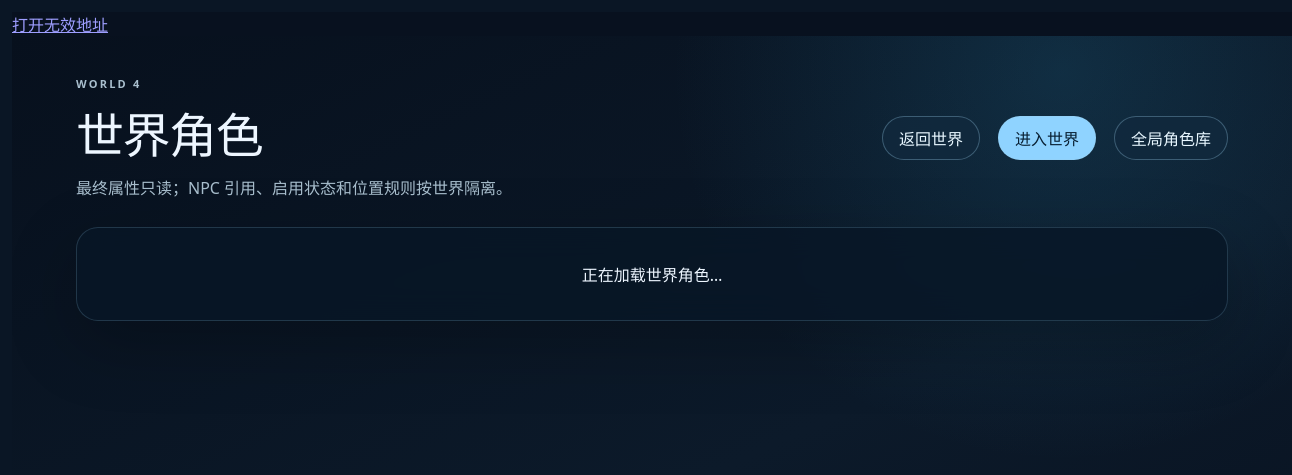
Test: WorldRolesPage › keeps an invalid-route error when an old world load resolves
Step 1. Click the link "打开无效地址" → [60, 25], box [12,14,108,36]
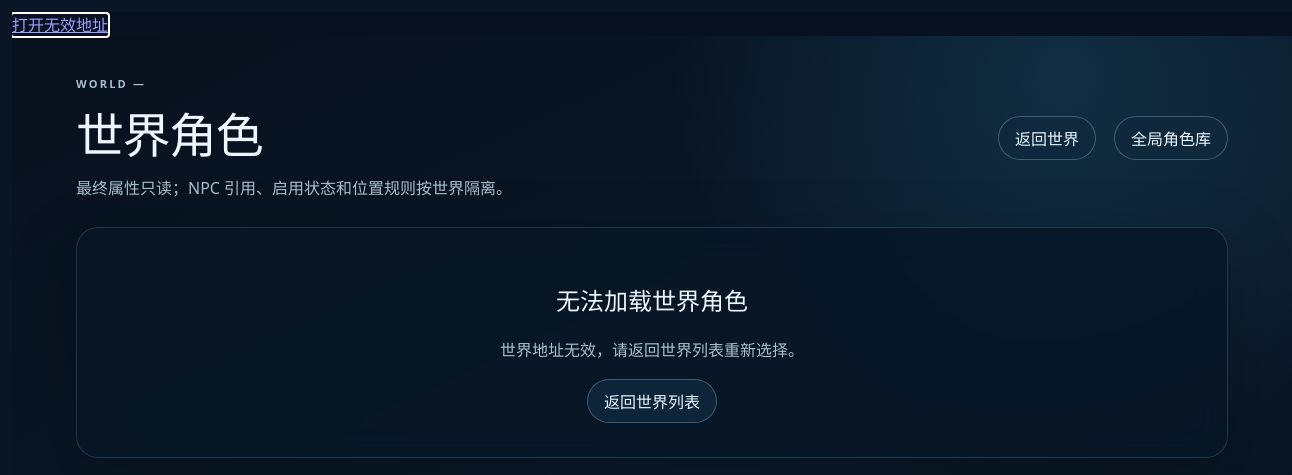
Check: the text "世界地址无效，请返回世界列表重新选择。" is shown, box [500,339,804,361]
